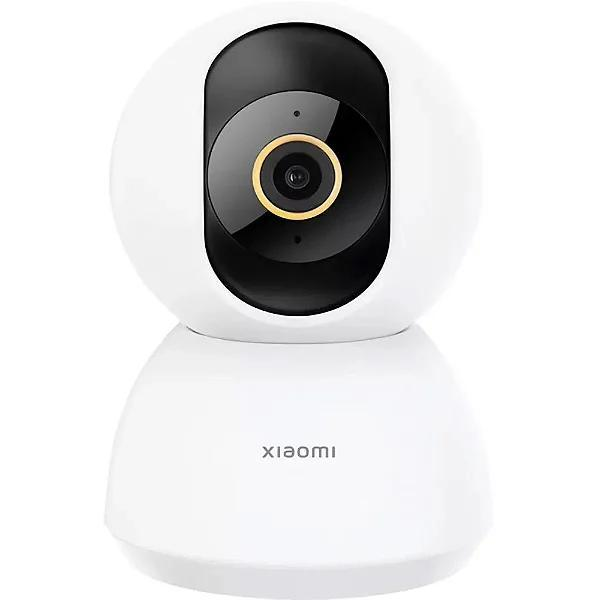camera: (46, 0, 530, 593)
